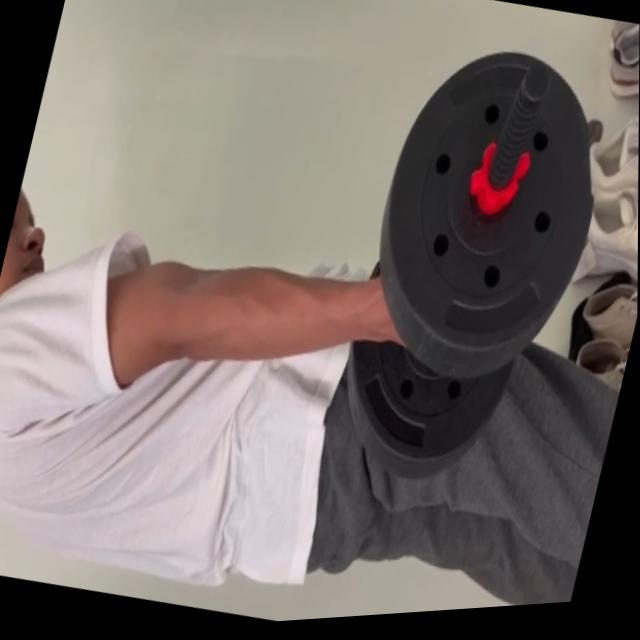dumbbell: (322, 24, 624, 513)
